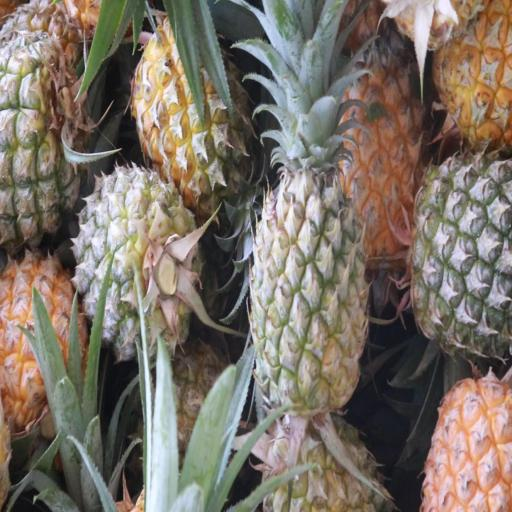------------------------------: (79, 166, 195, 356), (130, 18, 247, 198)
Pineapple - v8 v1: (332, 43, 427, 250), (0, 256, 83, 430)
